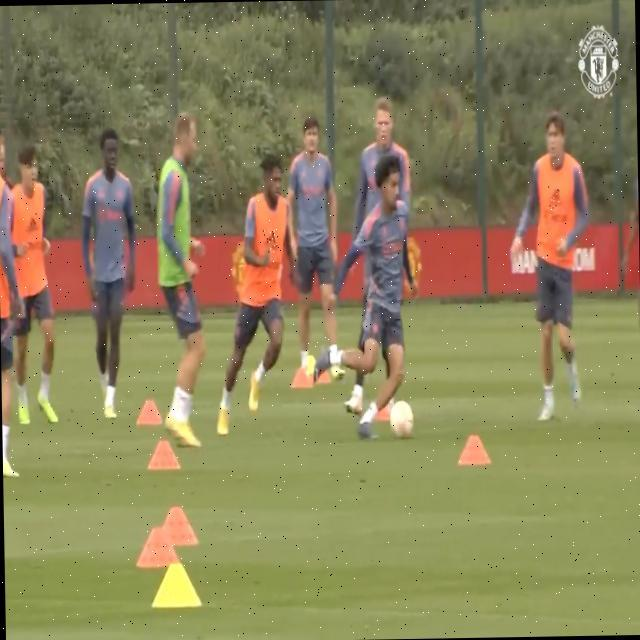Adidas: (263, 230, 279, 254), (548, 185, 563, 208), (25, 212, 39, 235)
